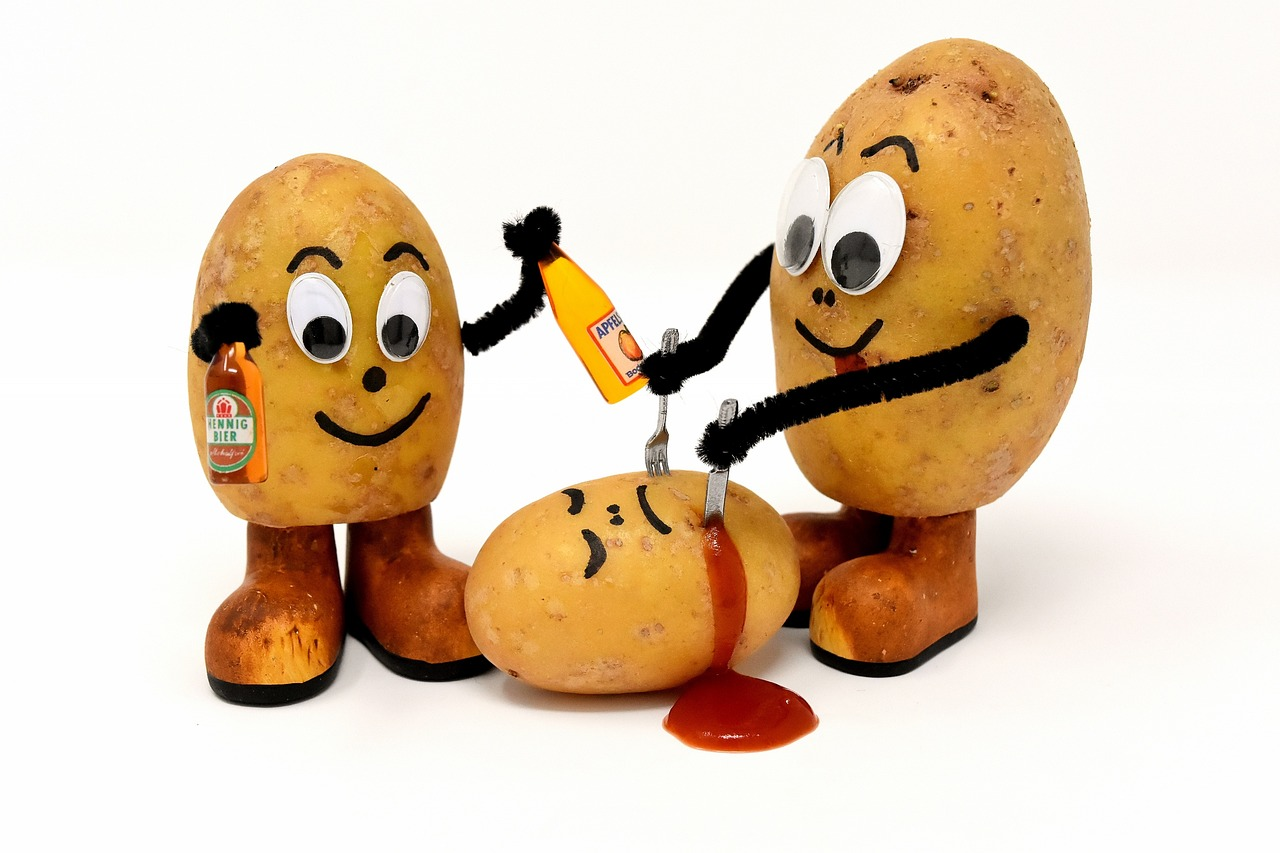knife: (700, 400, 738, 536)
